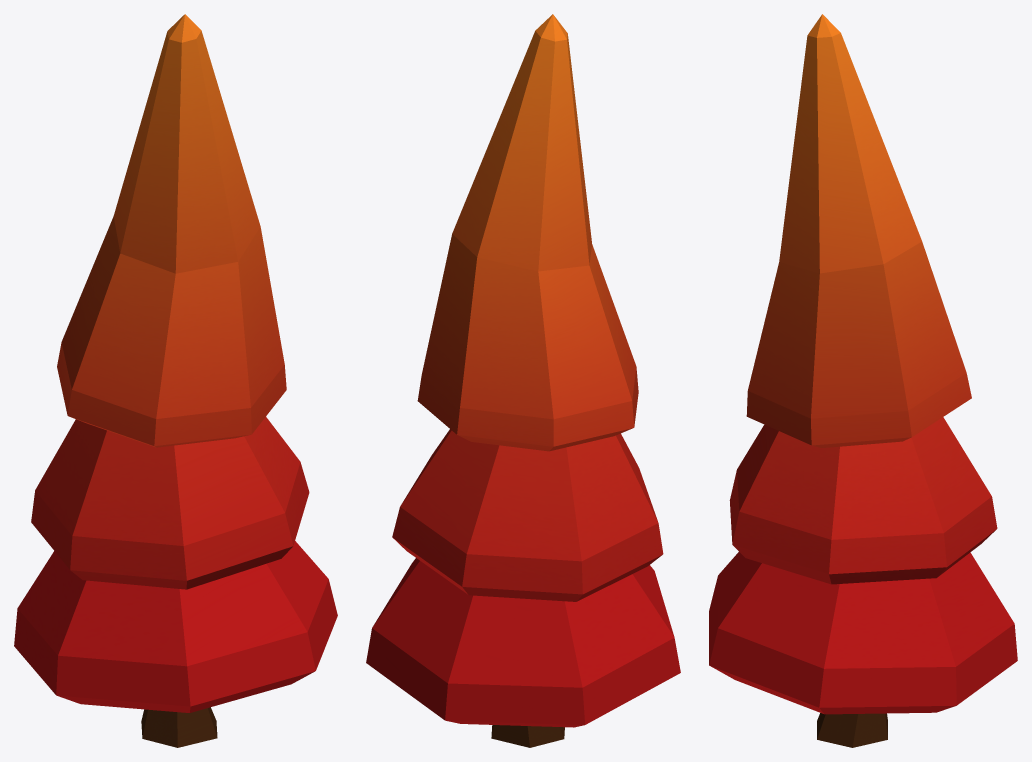
The model's file is Tree10.fbx.
3 renders of one model, left to right at view 1: azimuth 30°, elevation 25°; view 2: azimuth 150°, elevation 25°; view 3: azimuth 270°, elevation 25°, orthographic. The views are drawn at different scales.
Visible parts, largest first — view 1: tree_D5; view 2: tree_D5; view 3: tree_D5.
Part boxes in pixels (x1,y1,x2,y2): tree_D5: (14, 14, 337, 747); tree_D5: (366, 14, 680, 747); tree_D5: (709, 14, 1017, 747).
Bounding box in the file's own units: 141 × 350 × 138.
